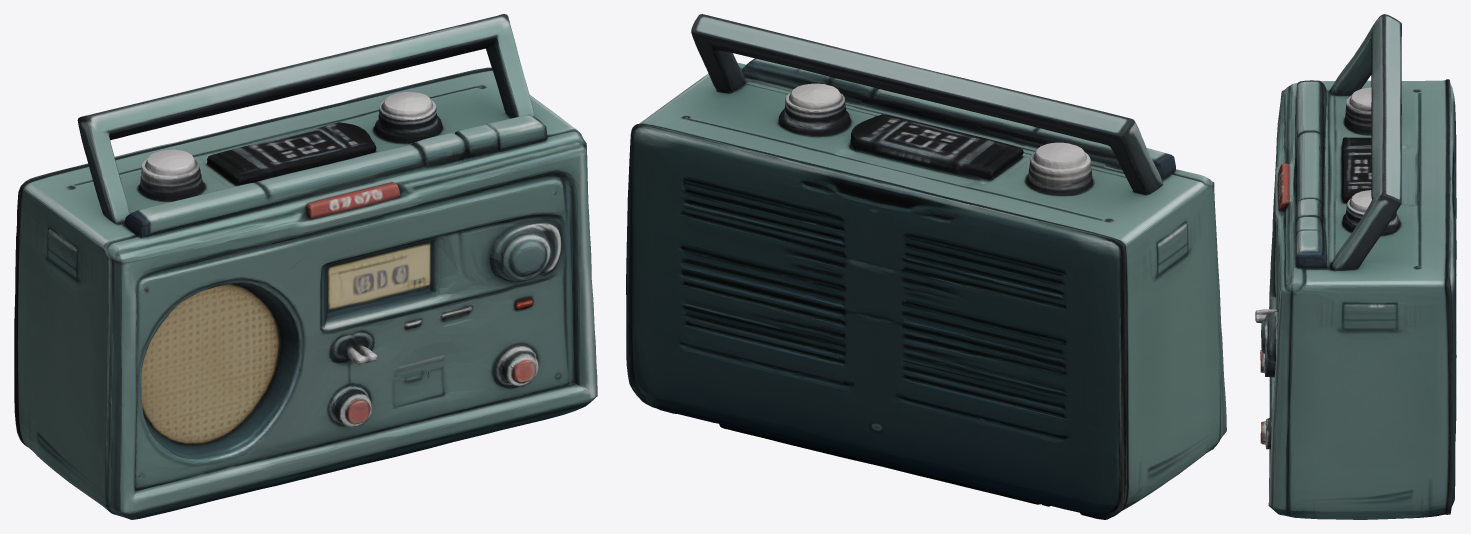
Rendered from radio.glb.
3 renders of one model, left to right at view 1: azimuth 30°, elevation 25°; view 2: azimuth 150°, elevation 25°; view 3: azimuth 270°, elevation 25°, orthographic. The views are drawn at different scales.
Visible parts, largest first — view 1: world; view 2: world; view 3: world.
Part boxes in pixels (left/top/right/bottom): world: left=14, top=14, right=597, bottom=519; world: left=626, top=14, right=1226, bottom=519; world: left=1255, top=14, right=1456, bottom=519.
Size of the model in its own units: 0.9976 by 0.7249 by 0.4056.
Materials: 1 (1 with a texture image).
